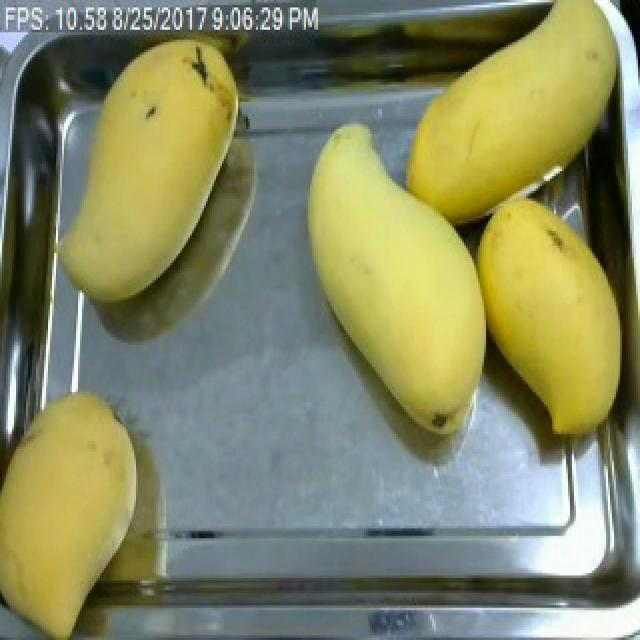fruit: (292, 111, 508, 446), (382, 0, 640, 236), (58, 30, 252, 318), (464, 174, 640, 449), (0, 387, 148, 640)
